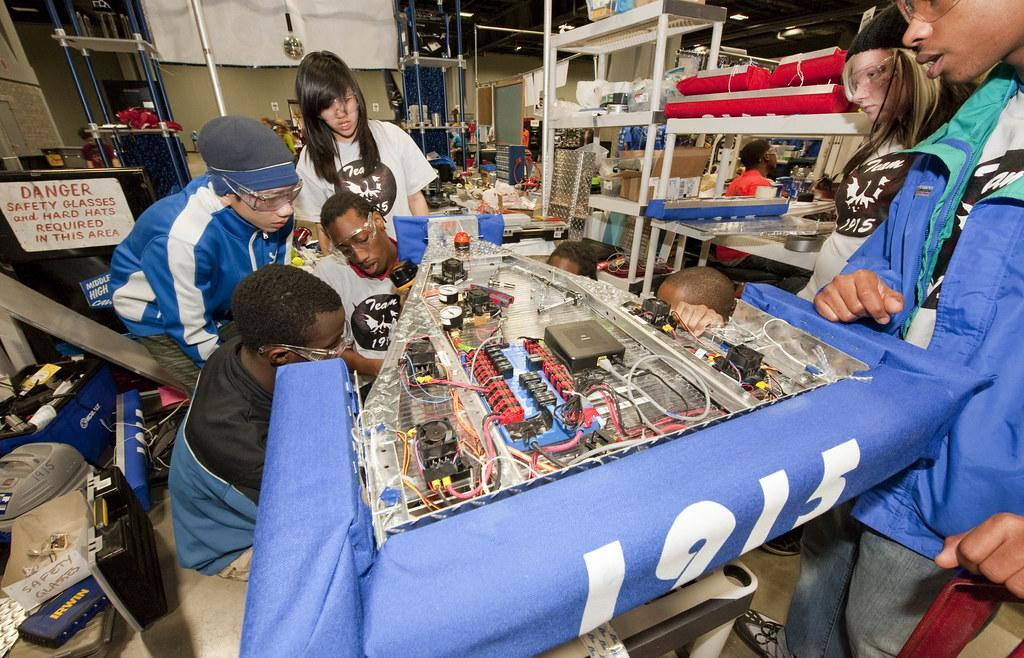robot: (236, 207, 976, 658)
